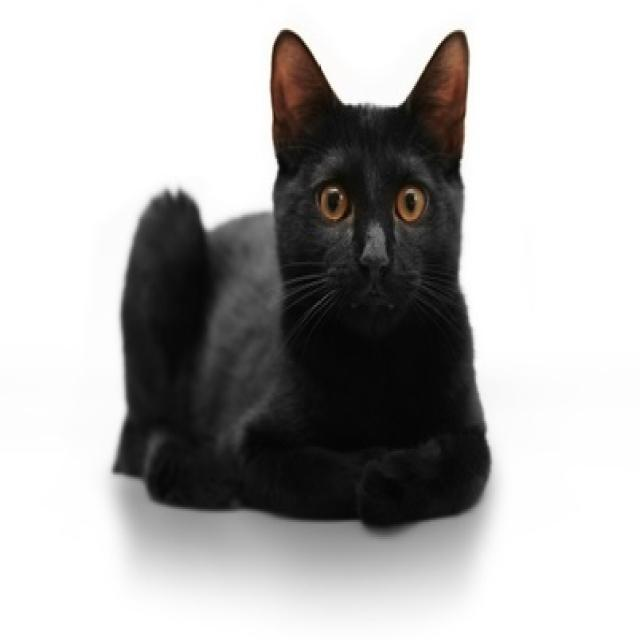Bombay: (257, 20, 483, 353)
